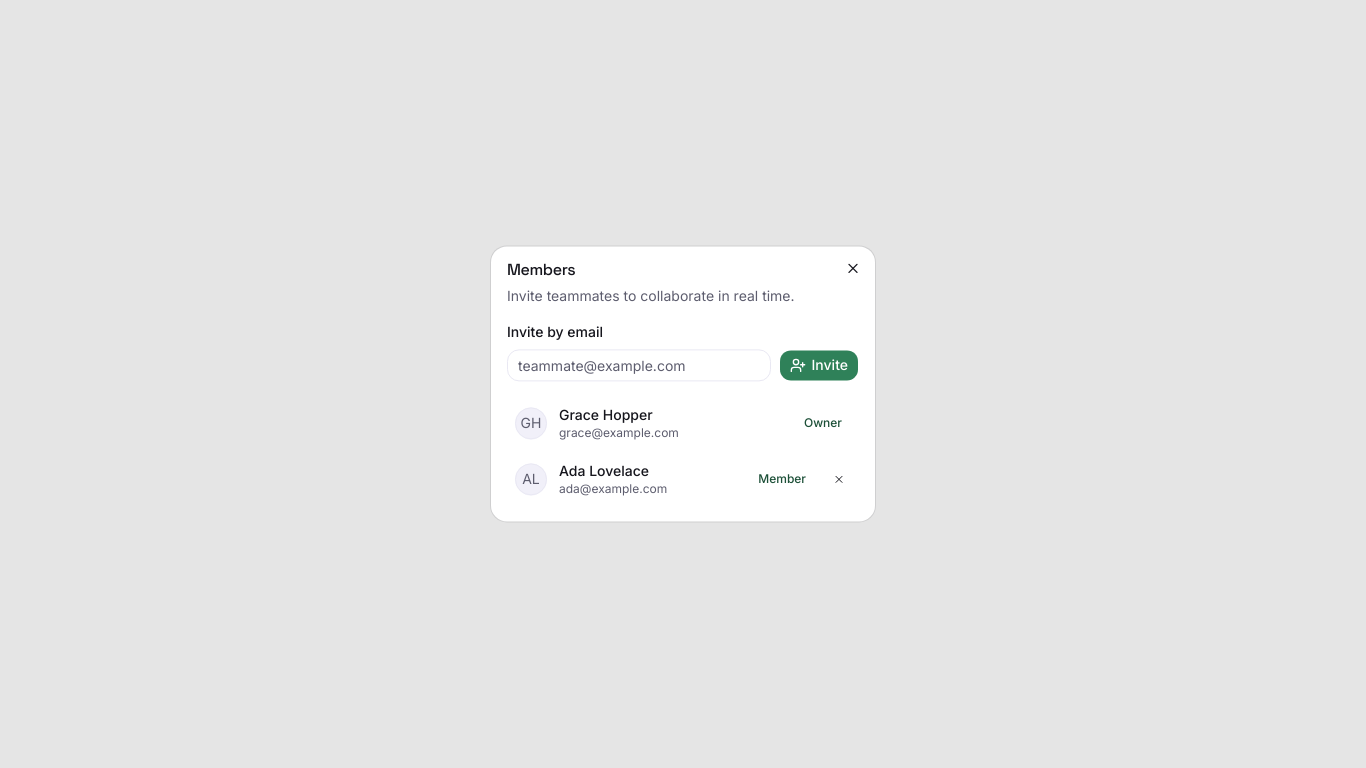
Test: MembersDialog › rejects an invalid email without asking, and reports a failed invite
Later steps or results of the test are not shown.
Step 1. Type "nobody" into the field labelled "Invite by email" → (639, 366), box [507,350,770,382]
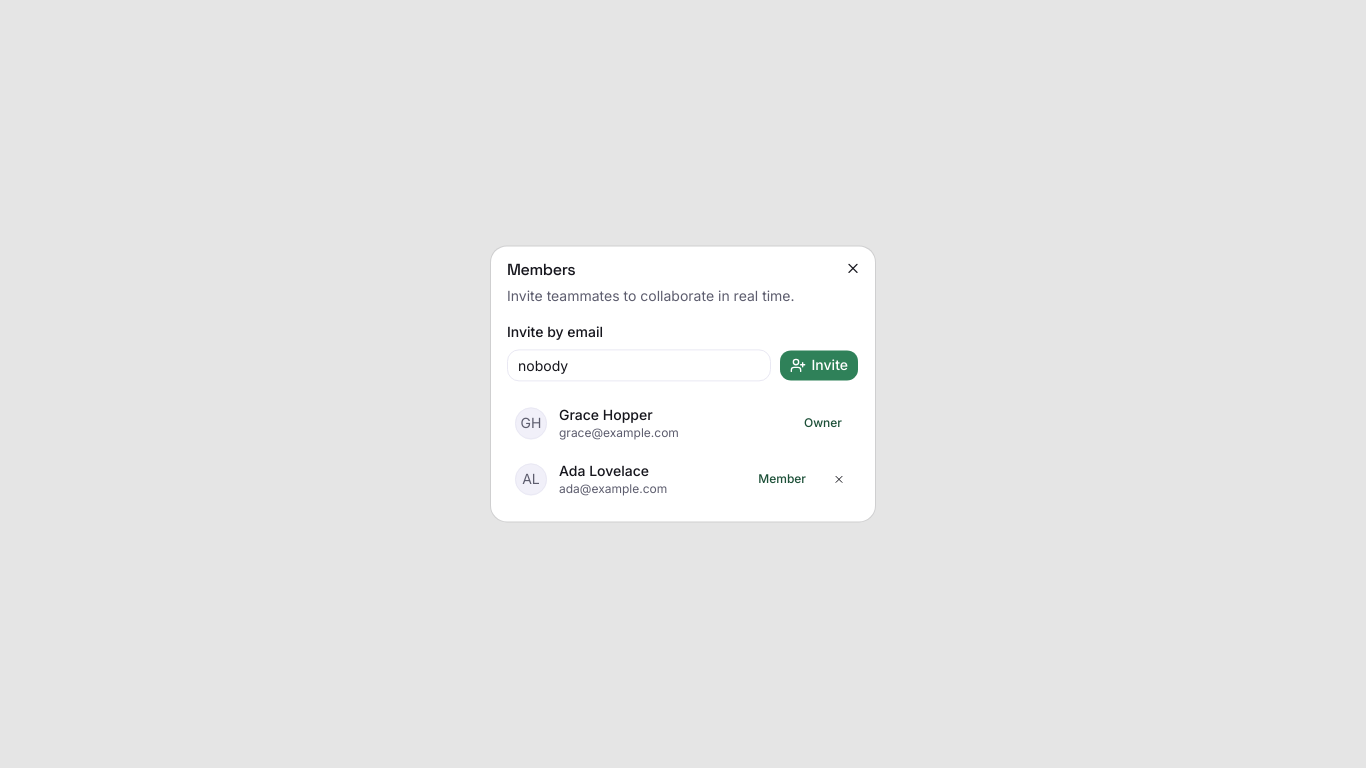
Step 2. Click the button "Invite" → (819, 366), box [778,350,859,382]
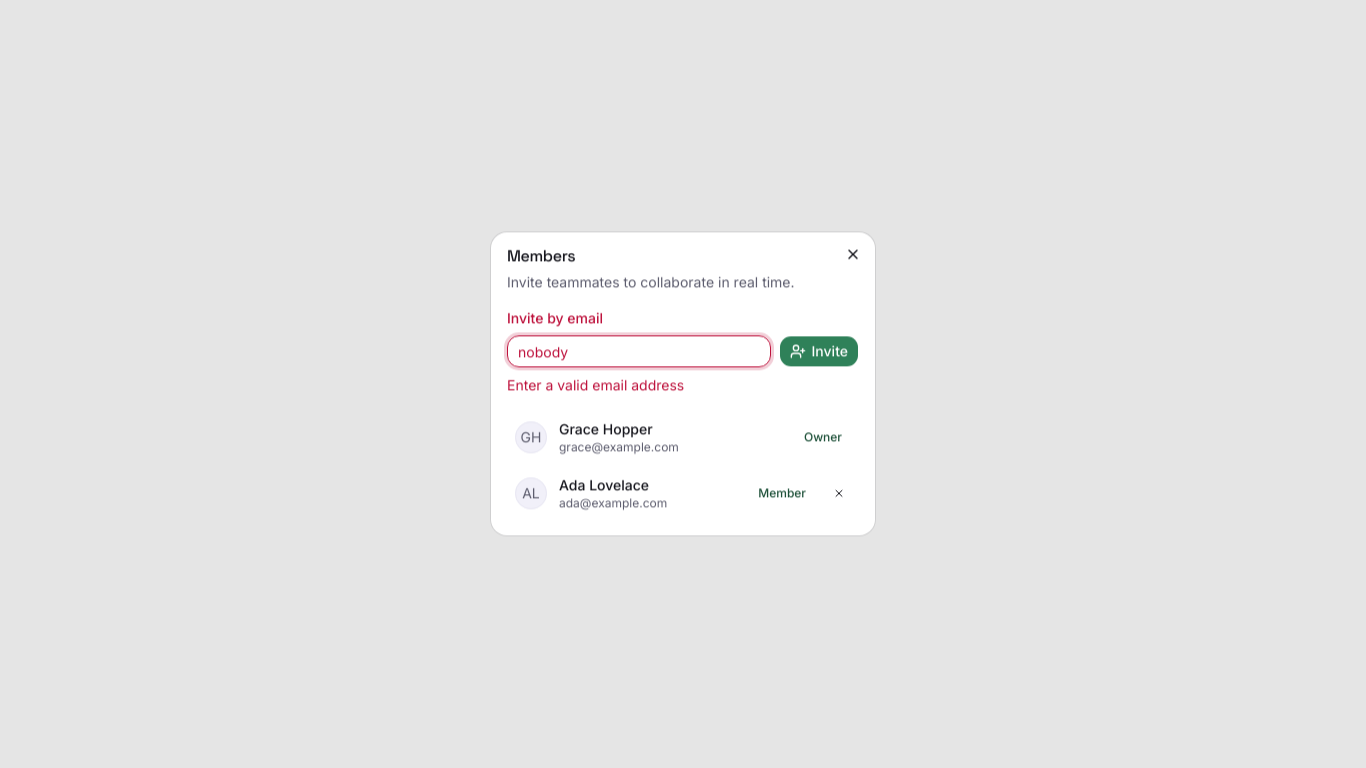
Check: the message shows "valid email", box [507,377,684,394]
